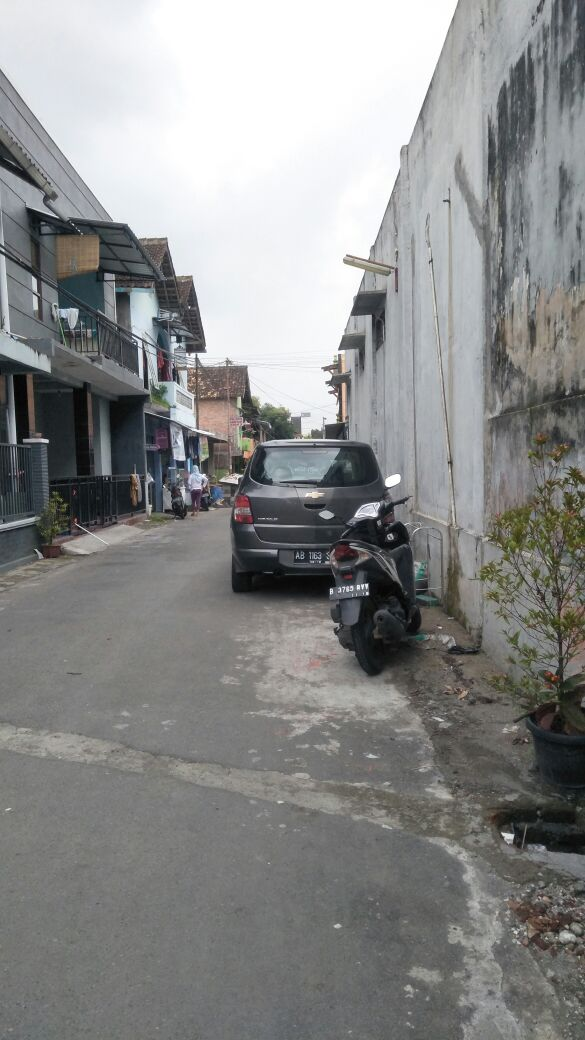plate: (329, 583, 370, 597), (295, 550, 336, 564)
